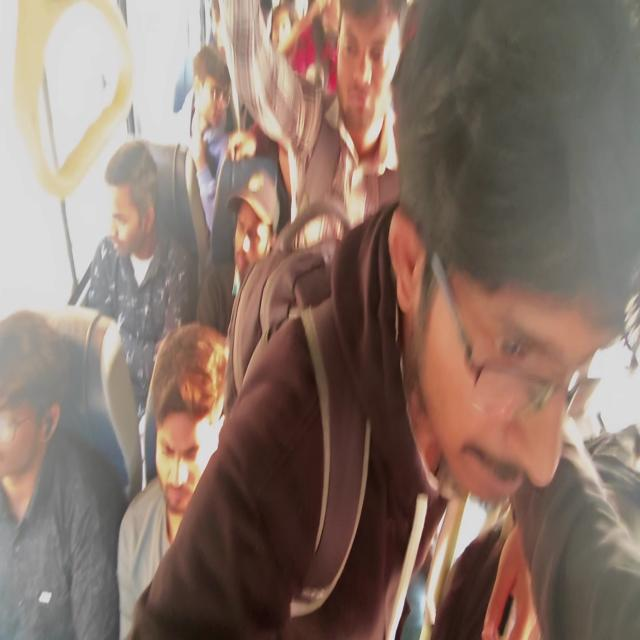person: (415, 249, 587, 512), (150, 369, 214, 520), (336, 9, 397, 127), (186, 44, 237, 132), (0, 394, 43, 478), (233, 192, 270, 278), (313, 0, 343, 89), (110, 183, 144, 260), (274, 7, 296, 58), (208, 0, 227, 57)
